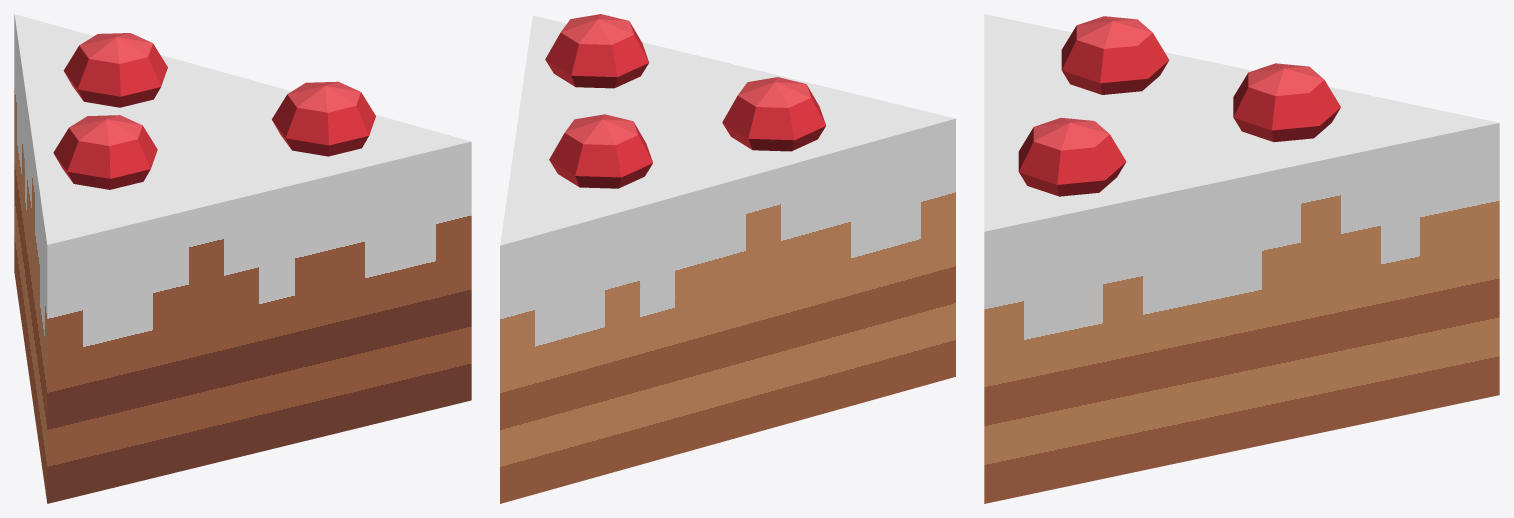
The model's file is cake.fbx.
3 renders of one model, left to right at view 1: azimuth 30°, elevation 25°; view 2: azimuth 150°, elevation 25°; view 3: azimuth 270°, elevation 25°, orthographic. The views are drawn at different scales.
Visible parts, largest first — view 1: cuboid; view 2: cuboid; view 3: cuboid.
Boxes of the visible parts, box(x1,y1,x2,y2) form: cuboid: box(14, 14, 471, 503); cuboid: box(500, 14, 955, 503); cuboid: box(984, 14, 1499, 503).
Size of the model in its own units: 75 by 52.5 by 75.
1 material, 1 textured.
